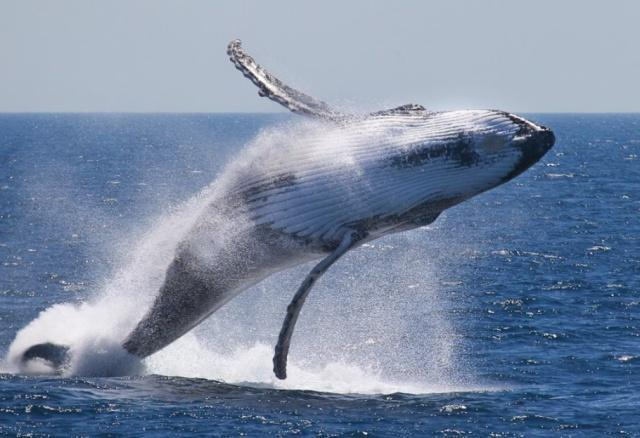fish: (46, 23, 555, 375)
